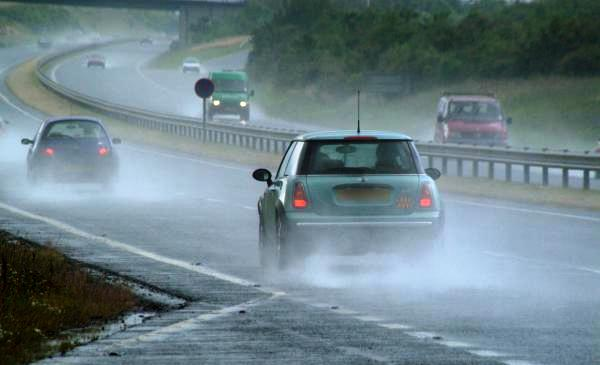car: (250, 131, 445, 290), (21, 115, 118, 188), (434, 93, 510, 143), (204, 71, 254, 123), (181, 56, 200, 73), (87, 50, 106, 66)
